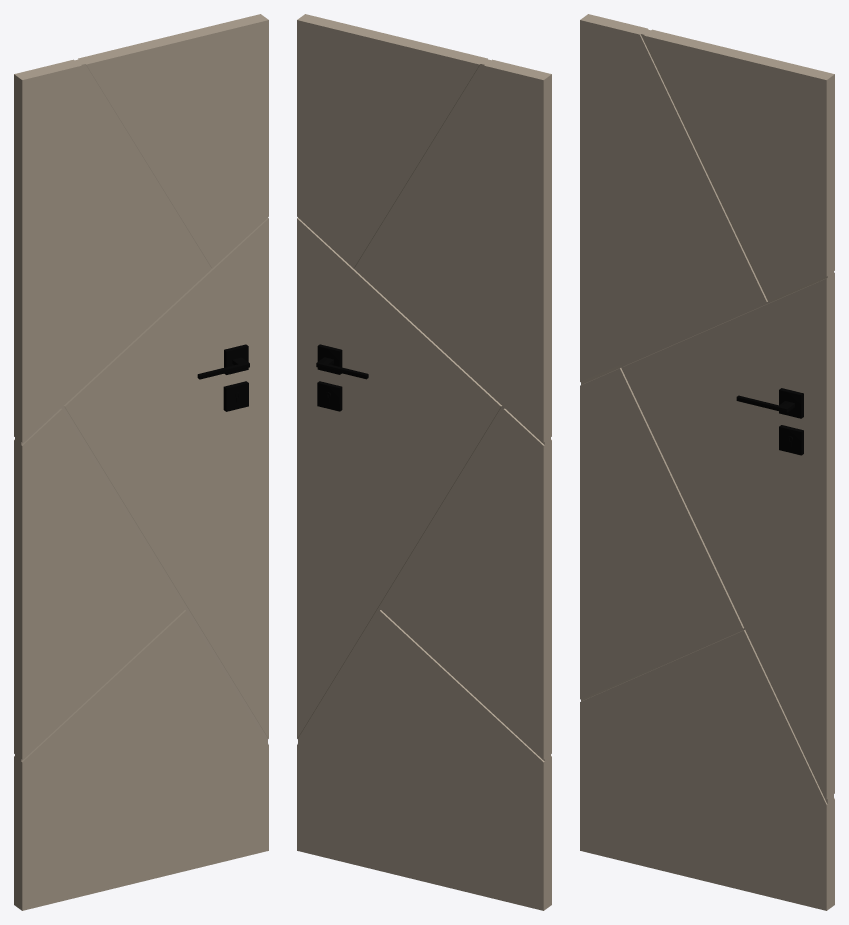
Rendered from RP_1_3a_door.glb.
The picture shows the model from 3 angles, left to right: view 1: azimuth 30°, elevation 25°; view 2: azimuth 150°, elevation 25°; view 3: azimuth 330°, elevation 25°; orthographic projection.
Parts seen in each view (by area): view 1: RP_1__3a_door__DT_32_1; view 2: RP_1__3a_door__DT_32_1; view 3: RP_1__3a_door__DT_32_1.
Part boxes in pixels (bbox=[...]): RP_1__3a_door__DT_32_1: bbox=[14, 14, 268, 910]; RP_1__3a_door__DT_32_1: bbox=[297, 14, 551, 910]; RP_1__3a_door__DT_32_1: bbox=[580, 14, 834, 910].
Bounding box in the file's own units: 0.5478 × 1.76 × 0.1117.
Materials: 1 (1 with a texture image).
